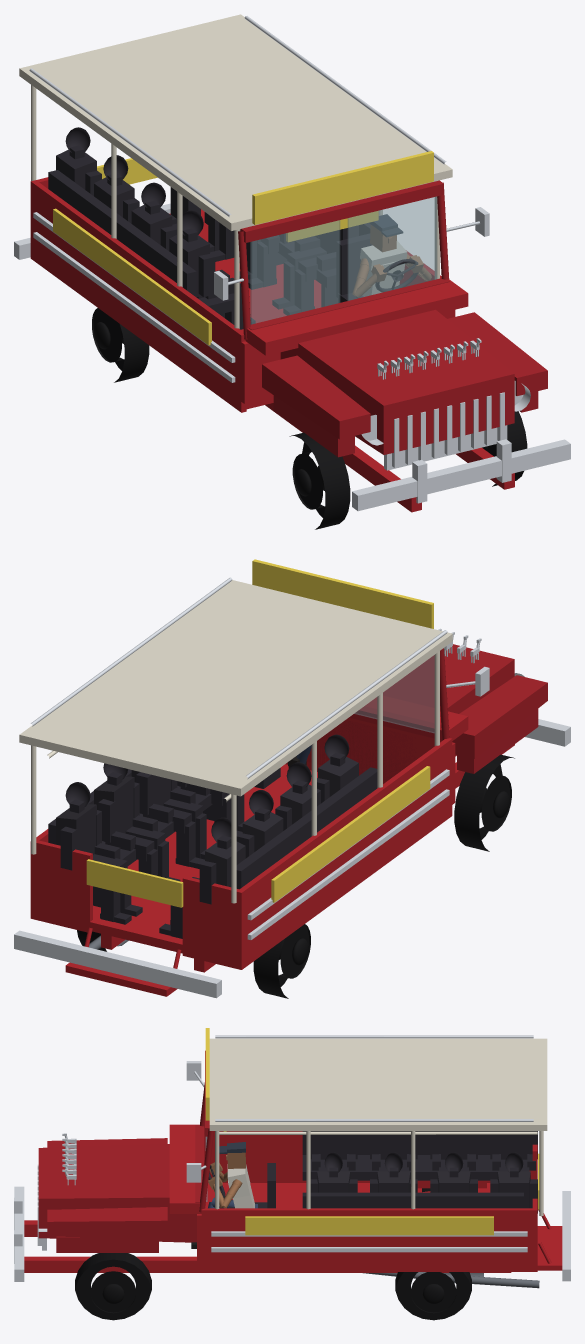
Rendered from jeepney.glb.
3 renders of one model, top to bottom at view 1: azimuth 30°, elevation 25°; view 2: azimuth 150°, elevation 25°; view 3: azimuth 270°, elevation 25°, orthographic. The views are drawn at different scales.
Parts seen in each view (by area): view 1: Roof, Nose, Body, Glass, Chrome, Signage, Spin (×3), Benches, Grille, Passenger_L0, Passenger_R0, Passenger_R1 (+6 smaller); view 2: Roof, Body, Nose, Signage, Chrome, Spin (×2), Benches, Passenger_L2, Passenger_L3, Passenger_L1, Glass, Passenger_R3 (+4 smaller); view 3: Roof, Body, Nose, Chrome, Spin (×2), Benches, Signage, Passenger_R0, Passenger_R2, Passenger_L3, Passenger_R3, Passenger_R1 (+6 smaller).
Part boxes in pixels (x1,y1,x2,y2): Roof: (19,14,452,328); Nose: (238,180,547,457); Body: (30,177,514,512); Glass: (250,196,437,324); Chrome: (14,16,570,511); Signage: (53,151,433,345); Spin (×3): (92,308,527,529); Benches: (48,170,370,317); Grille: (361,381,530,470); Passenger_L0: (272,225,358,315); Passenger_R0: (169,210,255,329); Passenger_R1: (131,182,176,250); Roof: (19,580,452,903); Body: (30,695,514,996); Nose: (307,644,547,780); Signage: (86,559,433,907); Chrome: (14,577,570,998); Spin (×2): (253,754,514,998); Benches: (48,767,377,907); Passenger_L2: (94,763,180,881); Passenger_L3: (56,782,142,924); Passenger_L1: (131,770,206,868); Glass: (354,655,434,732); Passenger_R3: (159,817,245,938); Roof: (209,1038,547,1216); Body: (24,1124,562,1272); Nose: (38,1050,214,1252); Chrome: (14,1035,570,1281); Spin (×2): (75,1253,471,1320); Benches: (302,1131,523,1208); Signage: (205,1028,539,1235); Passenger_R0: (310,1131,357,1171); Passenger_R2: (430,1131,477,1171); Passenger_L3: (490,1152,537,1213); Passenger_R3: (490,1131,537,1171); Passenger_R1: (370,1131,417,1171).
Size of the model in its own units: 2.53 by 2.59 by 5.74.
